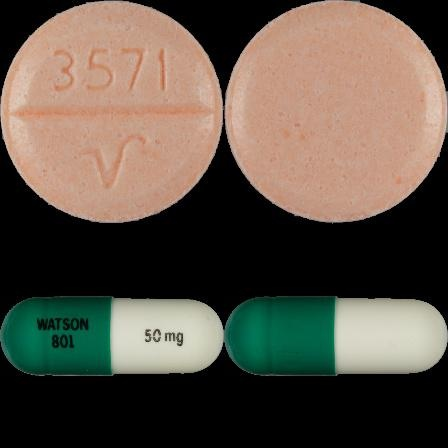53808-0422: (0, 0, 224, 224)
